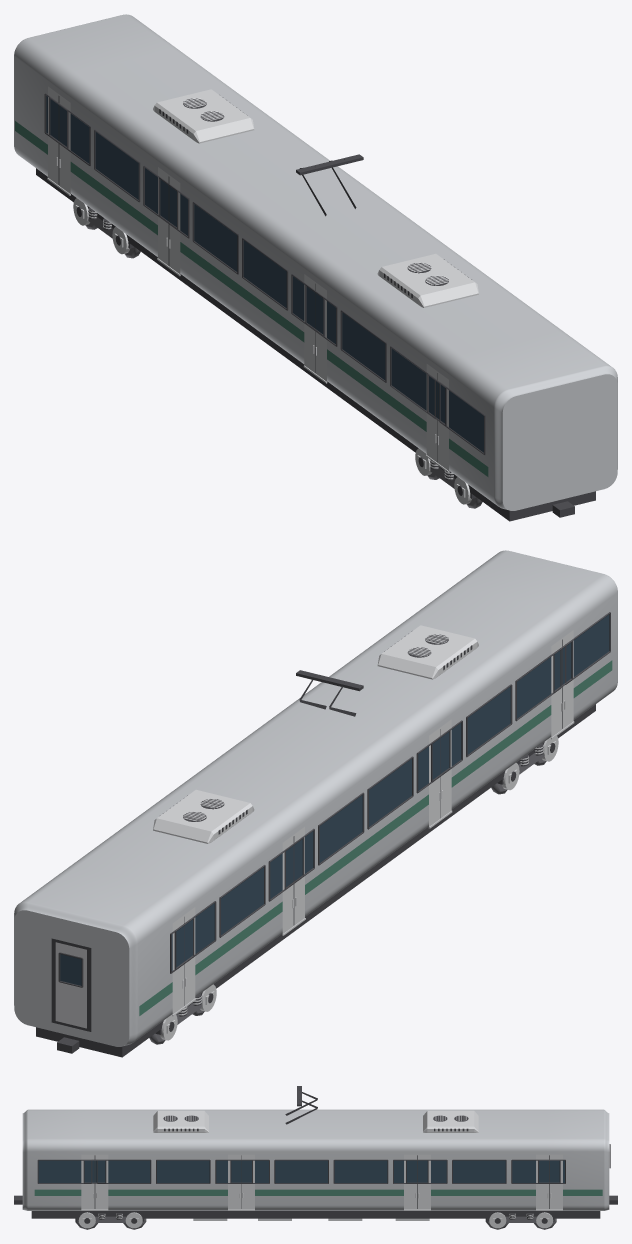
File: 375_close.fbx
The picture shows the model from 3 angles, top to bottom: view 1: azimuth 30°, elevation 25°; view 2: azimuth 150°, elevation 25°; view 3: azimuth 270°, elevation 25°; orthographic projection. The views are drawn at different scales.
Visible parts, largest first — view 1: 375_close; view 2: 375_close; view 3: 375_close.
Part boxes in pixels (bbox=[...]): 375_close: bbox=[14, 14, 617, 521]; 375_close: bbox=[14, 550, 617, 1057]; 375_close: bbox=[14, 1086, 617, 1229].
Bounding box in the file's own units: 3.01 × 4.67 × 20.6.
